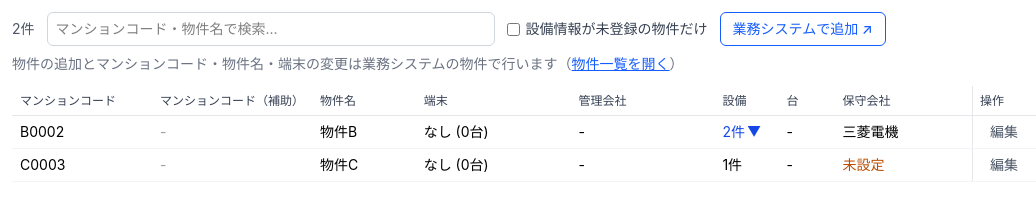
it: PropertiesMaster › lists one vendor per equipment row, collapsed to the first until n件 ▼ is opened
Expected: the element with test id "equipment-vendors" reads "三菱電機", [842, 123, 898, 140]
Expected: the element with test id "equipment-vendors" reads "未設定", [842, 156, 884, 173]
Click the button named "B0002 の設備 2件" at [742, 132], box [722, 122, 761, 142]
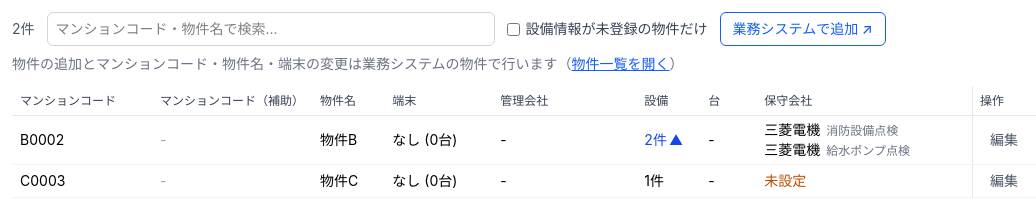
Result: the button named "B0002 の設備 2件" is expanded at [644, 130, 683, 150]
